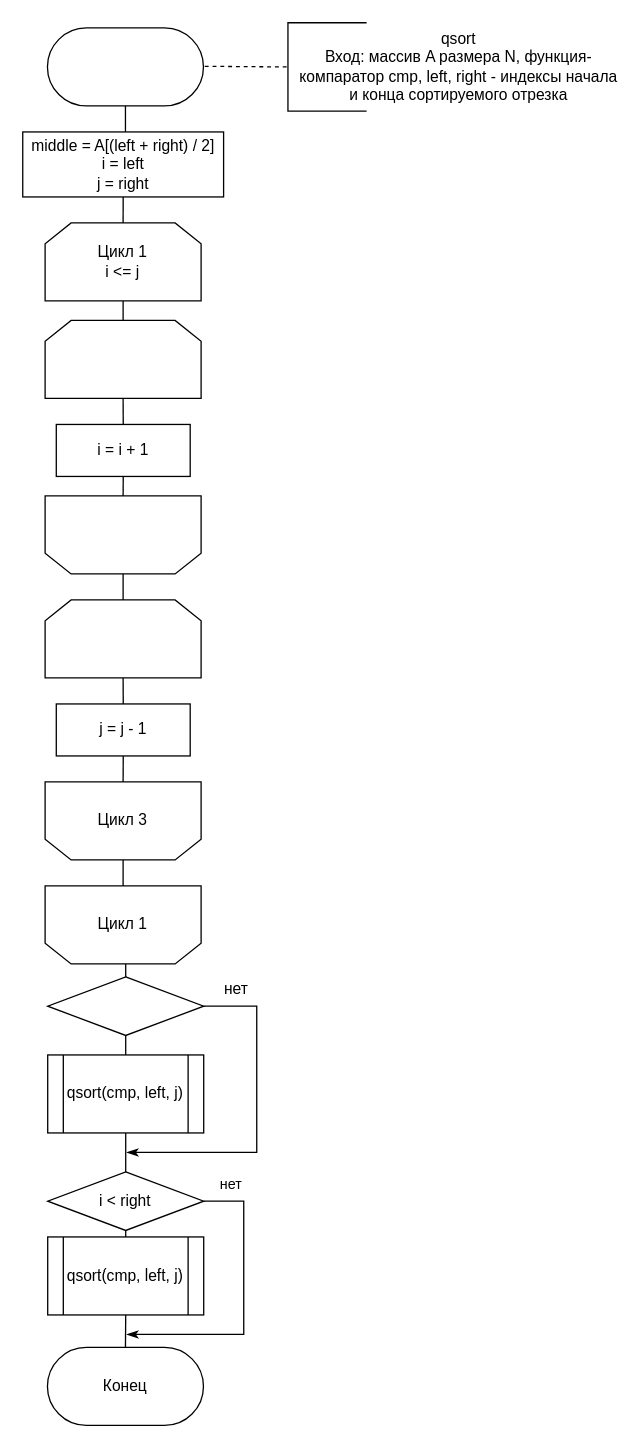
The diagram is 644 pixels wide and 1448 high, and some of its shapes have lost their labels. The shapes that lost their labels are listed below. From the top down, each one's box as (x1, y1, x2, y2) in pixels, then its label:
(46, 27, 203, 106): Начало qsort
(44, 319, 201, 398): Цикл 2 cmp(A[i], middle) < 0
(44, 495, 201, 574): Цикл 2
(44, 599, 201, 678): Цикл 3 cmp(A[j], middle) > 0
(46, 976, 204, 1035): left < j
